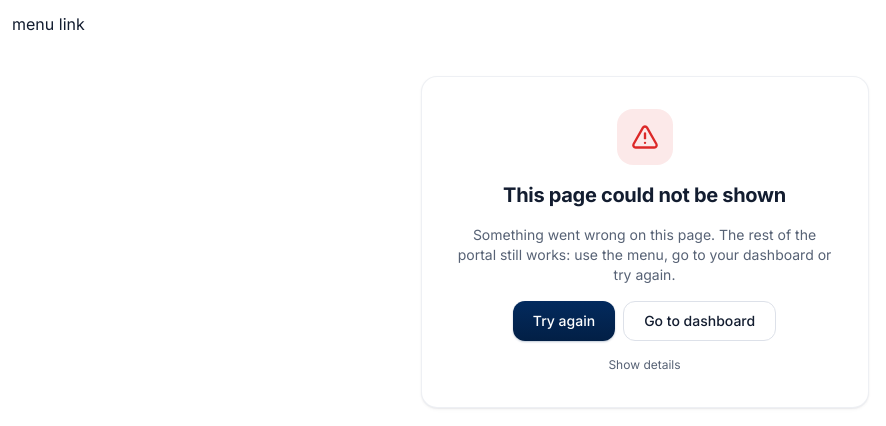
PageErrorBoundary › shows the error in the page area only, keeps the menu, and clears it on the next page
Expected: the message with test id "page-error" is shown, [420, 76, 868, 408]
Expected: the heading "This page could not be shown" is shown, [503, 183, 786, 207]
Click the link "menu link" at (48, 24), box [12, 14, 85, 34]
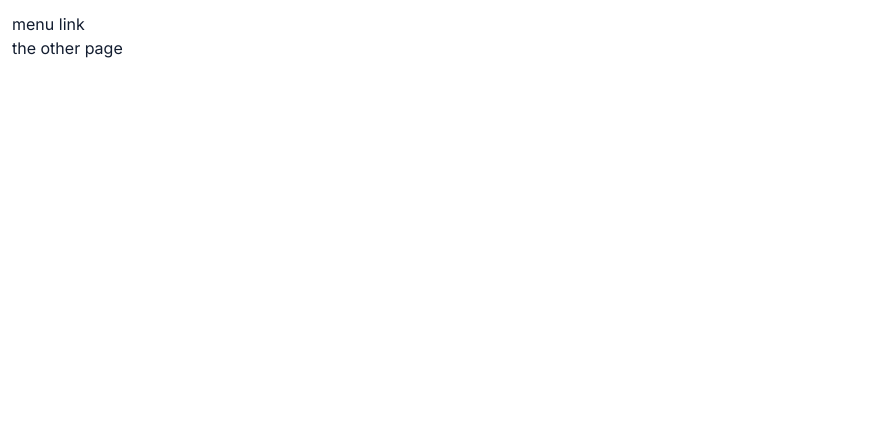
Expected: the text "the other page" is shown, [12, 38, 123, 58]
